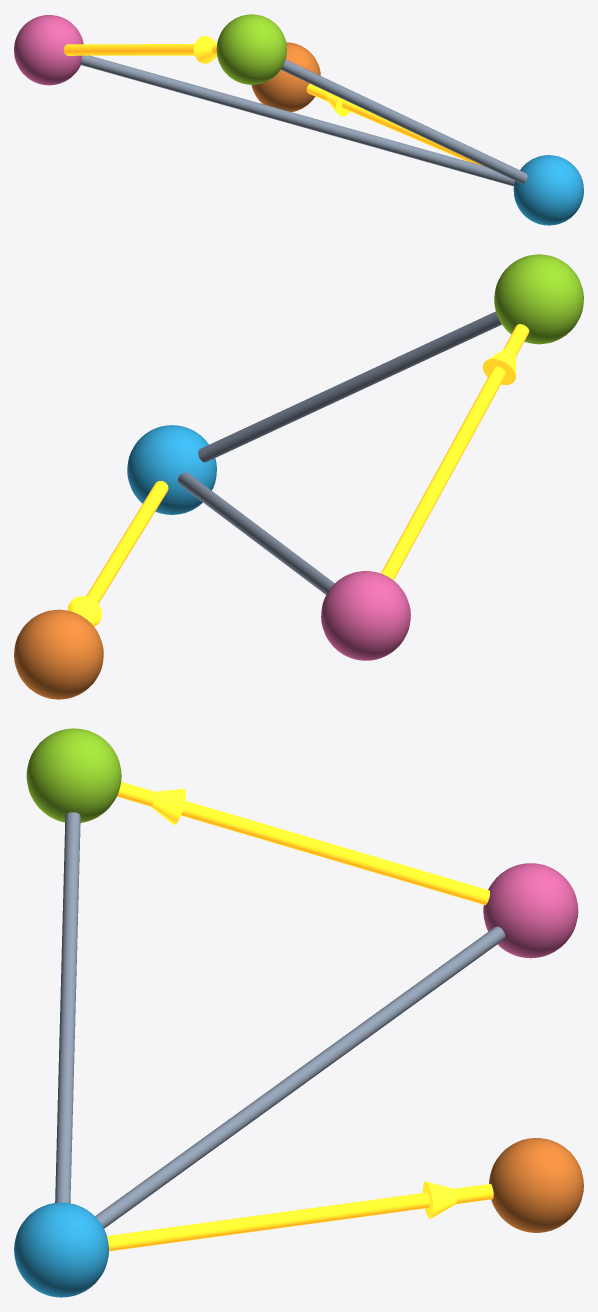
Rendered from asset.glb.
3 renders of one model, top to bottom at view 1: azimuth 30°, elevation 25°; view 2: azimuth 150°, elevation 25°; view 3: azimuth 270°, elevation 25°, orthographic. The views are drawn at different scales.
Parts seen in each view (by area): view 1: Edge_1, Node_3, Node_1, Node_2, Edge_3, Node_4, Edge_2, Edge_4, Edge_2_Arrow; view 2: Node_4, Node_2, Node_3, Node_1, Edge_3, Edge_2, Edge_1, Edge_4, Edge_2_Arrow, Edge_4_Arrow; view 3: Edge_1, Node_1, Node_4, Node_3, Node_2, Edge_3, Edge_4, Edge_2, Edge_2_Arrow, Edge_4_Arrow.
Boxes of the visible parts, x1,y1,x2,y2 form: Edge_1: (80,55,514,186); Node_3: (216,14,286,84); Node_1: (513,155,583,225); Node_2: (14,15,83,85); Edge_3: (281,59,527,183); Node_4: (251,42,320,111); Edge_2: (63,44,216,55); Edge_4: (306,83,483,165); Edge_2_Arrow: (193,36,217,63); Node_4: (14,609,103,699); Node_2: (321,571,410,660); Node_3: (494,254,583,344); Node_1: (127,425,216,514); Edge_3: (198,311,501,462); Edge_2: (381,324,529,580); Edge_1: (178,472,334,594); Edge_4: (86,481,168,603); Edge_2_Arrow: (482,348,515,384); Edge_4_Arrow: (67,596,101,626); Edge_1: (95,926,505,1228); Node_1: (14,1202,108,1297); Node_4: (489,1138,583,1232); Node_3: (26,728,121,822); Node_2: (483,863,578,958); Edge_3: (55,812,80,1203); Edge_4: (107,1184,493,1251); Edge_2: (117,782,489,905); Edge_2_Arrow: (151,788,185,824); Edge_4_Arrow: (422,1181,457,1218).
Size of the model in its own units: 6.97 by 4.69 by 6.59.
